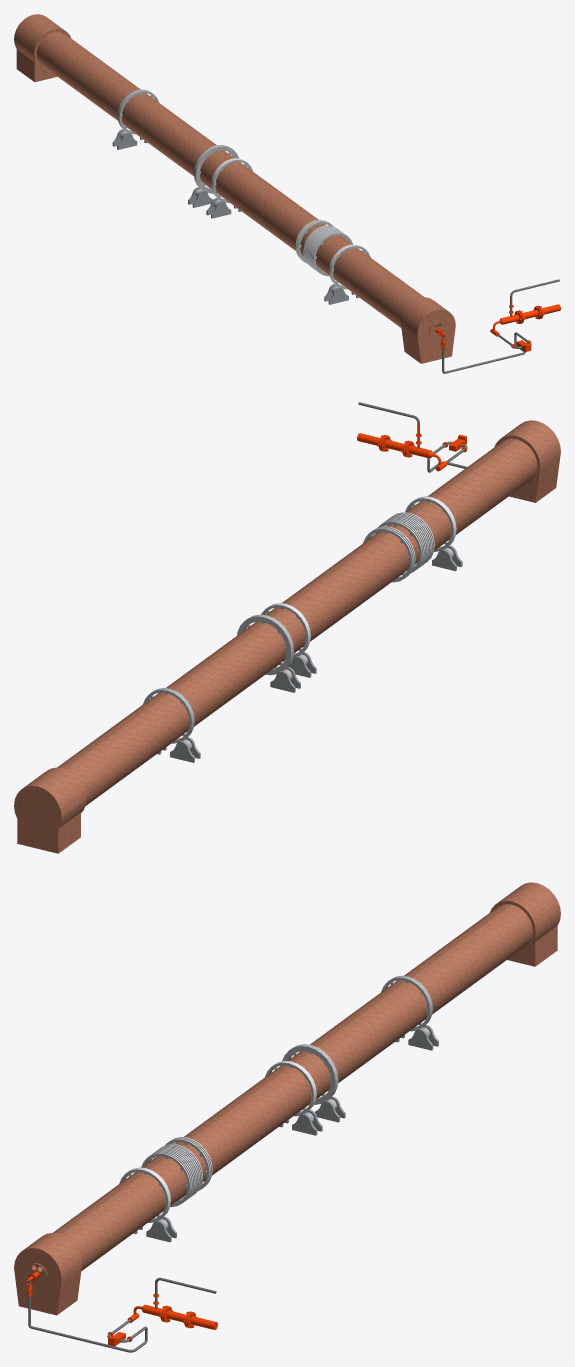
3 renders of one model, top to bottom at view 1: azimuth 30°, elevation 25°; view 2: azimuth 150°, elevation 25°; view 3: azimuth 330°, elevation 25°, orthographic. The views are drawn at different scales.
Visible parts, largest first — view 1: root; view 2: root; view 3: root.
Part boxes in pixels (<box>): root: <box>14,14,560,373</box>; root: <box>14,402,560,853</box>; root: <box>14,882,560,1352</box>.
Bounding box in the file's own units: 8.29 × 3.1 × 37.81.
Materials: 7 (6 with a texture image).
